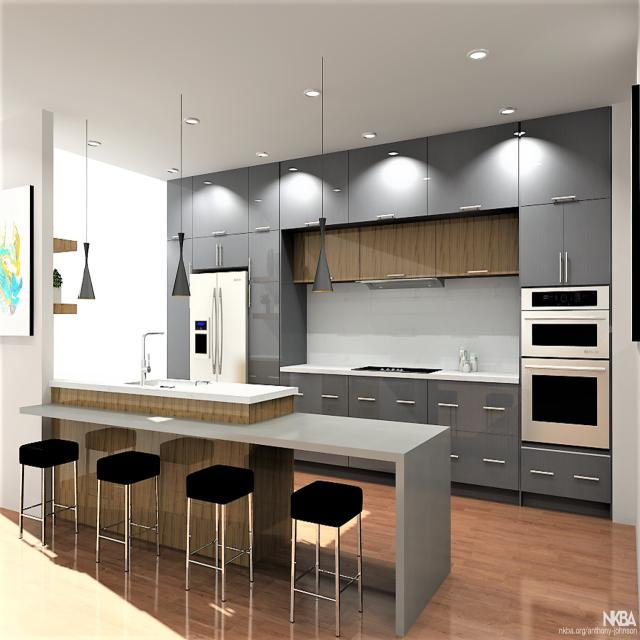Appliance_Oven: (522, 358, 612, 454), (521, 285, 610, 359)
Appliance_Sink: (125, 330, 209, 388)
Cabinet_Inset: (165, 107, 614, 506), (167, 296, 190, 380)
Countertop_Concrete: (19, 406, 452, 636)
Countertop_Solid_Surface: (50, 380, 301, 405), (281, 364, 519, 384)
